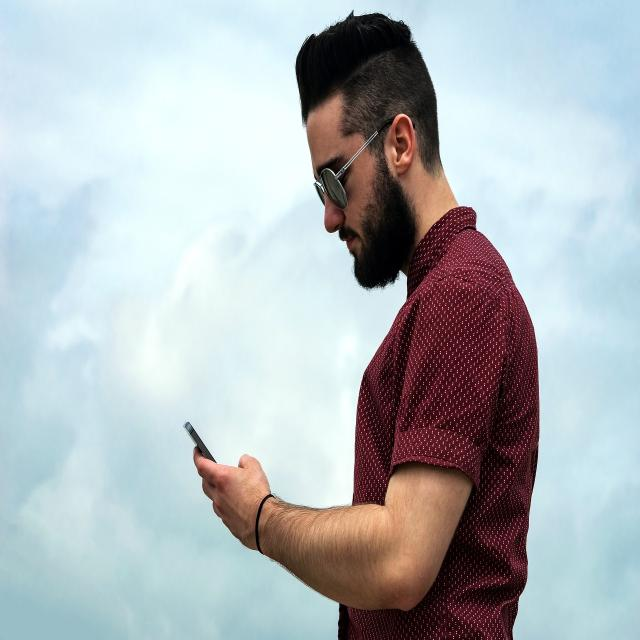Mobile: (167, 395, 225, 485)
